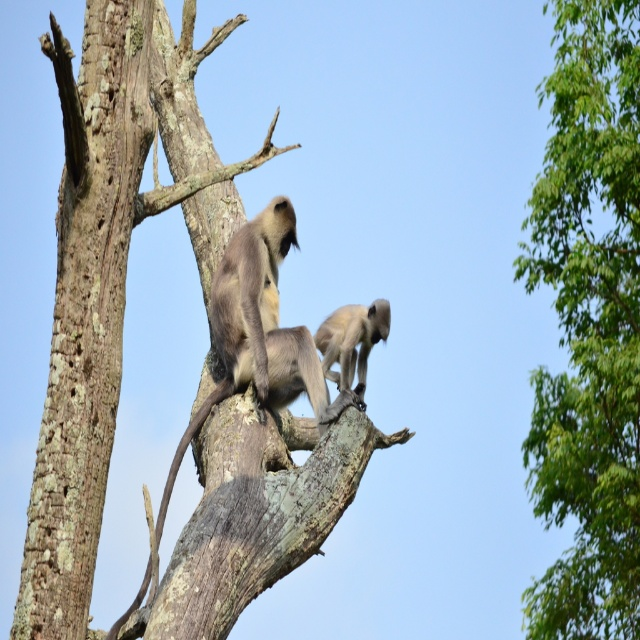Monkey: (105, 190, 365, 639), (311, 294, 393, 441)
